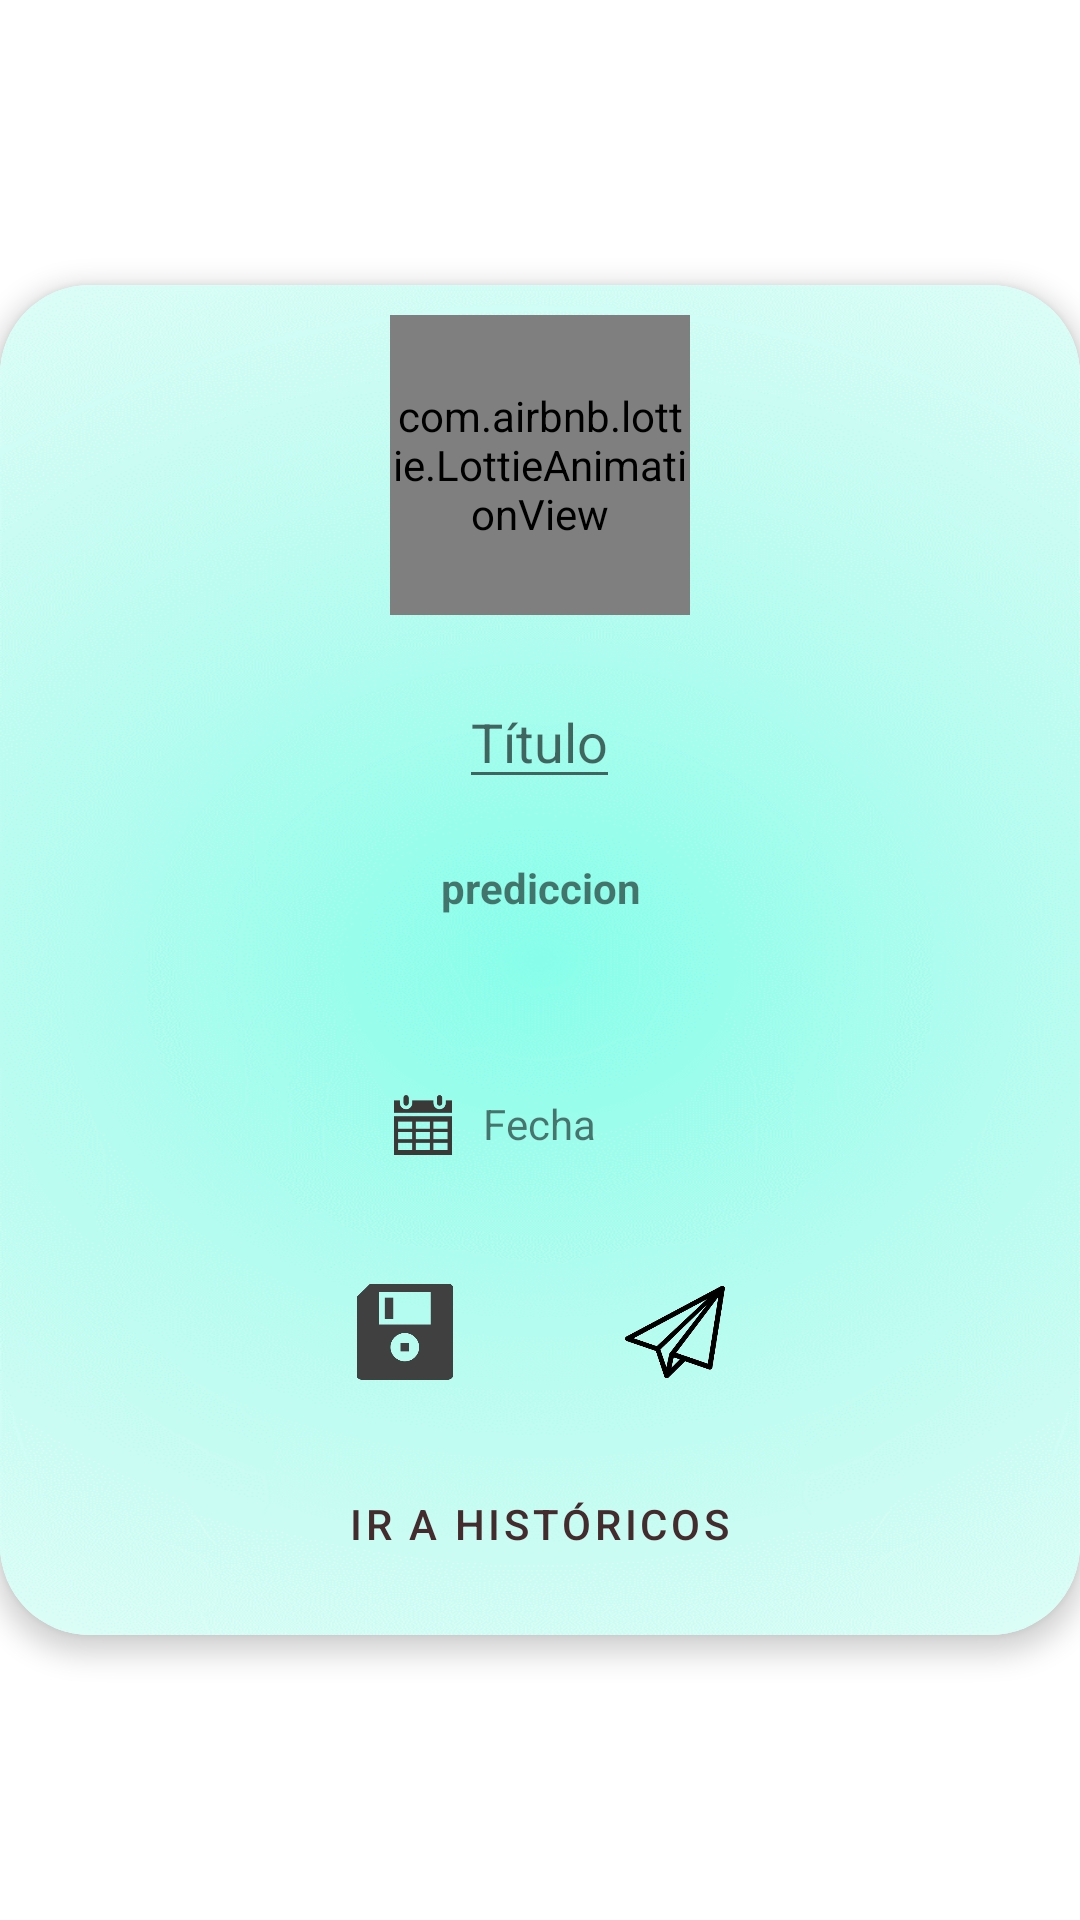

Icon click points for this 1080px×1920px phone screenshot, format [x,y]:
enviar: [675,1332]
